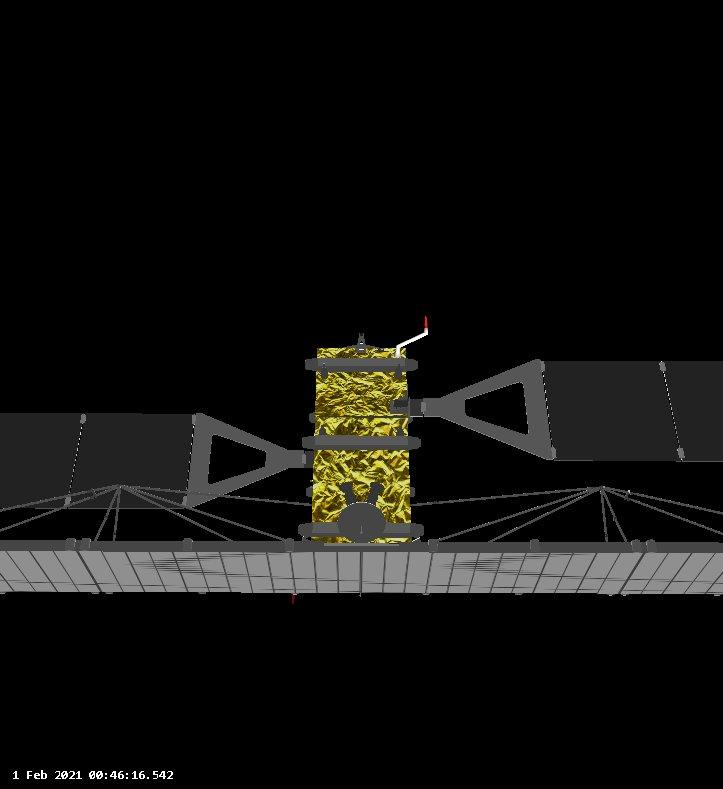antenna: (334, 498, 386, 546)
body: (304, 333, 422, 552)
solar: (0, 522, 723, 604), (0, 409, 277, 513), (459, 358, 723, 467)
thruster: (368, 480, 386, 508), (339, 482, 358, 504)
